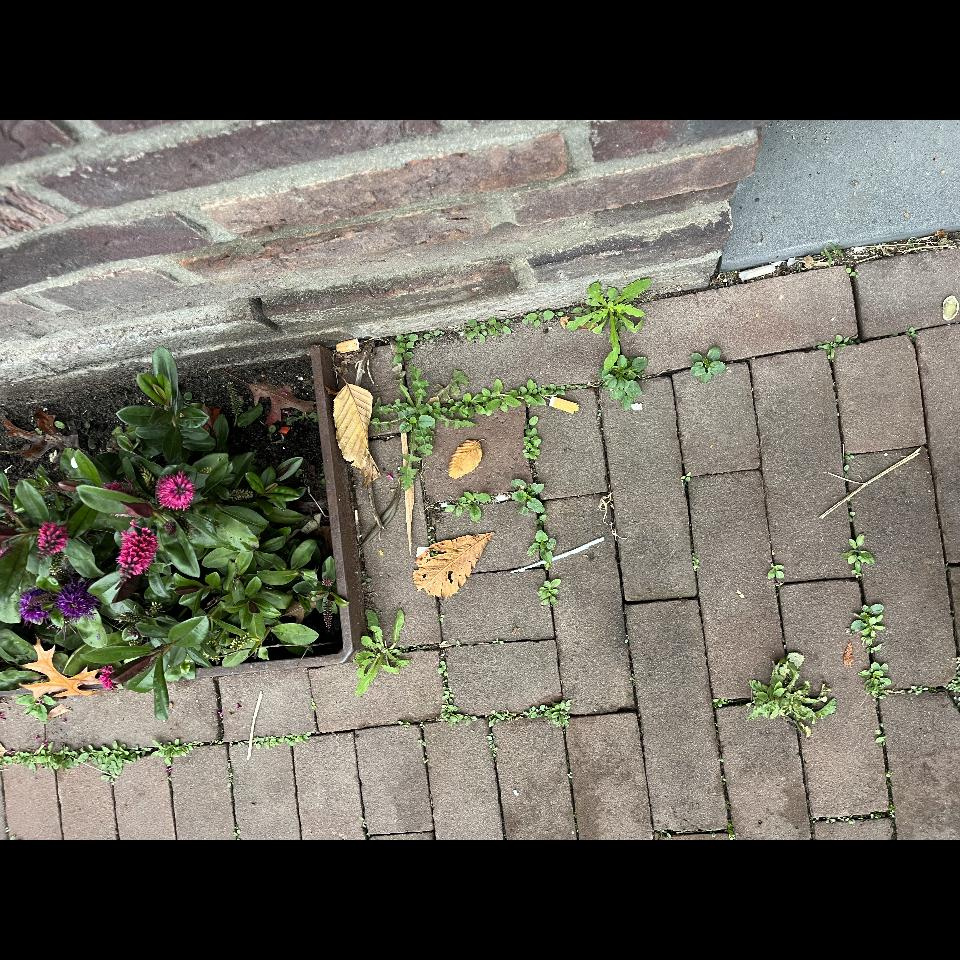weed: (378, 493, 472, 698), (59, 120, 99, 316), (103, 868, 187, 956), (491, 677, 561, 771), (144, 474, 230, 530), (267, 631, 361, 676), (431, 721, 490, 768), (115, 558, 179, 598), (113, 600, 140, 690), (475, 514, 509, 564), (497, 581, 522, 635), (457, 810, 493, 845), (92, 371, 106, 429), (480, 935, 505, 960), (234, 658, 261, 681), (513, 642, 529, 678), (260, 887, 277, 904)
